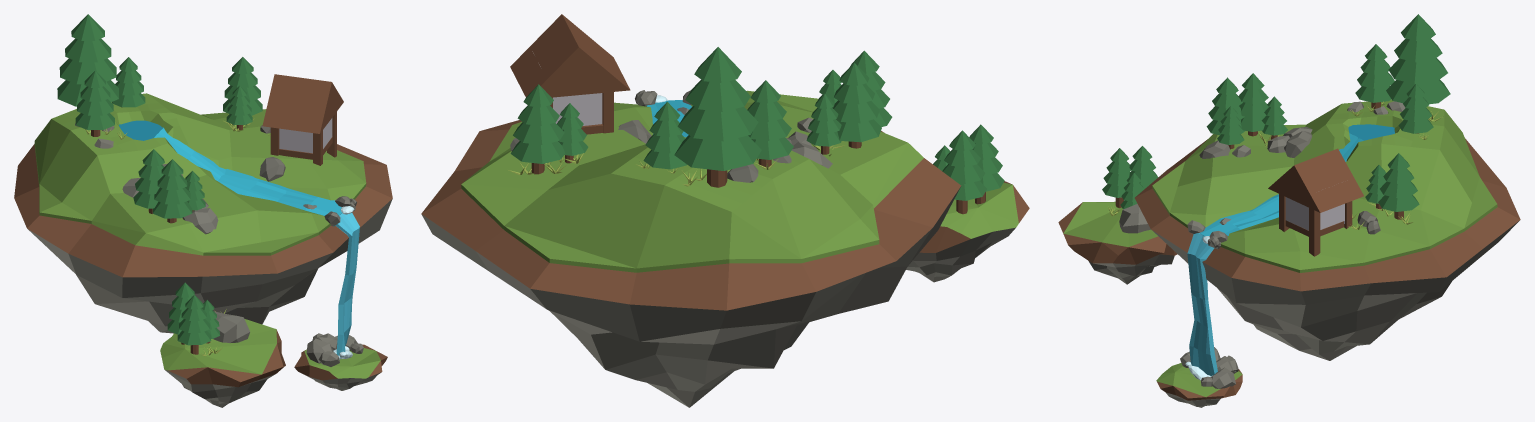
The model's file is Island_Green.glb.
The picture shows the model from 3 angles, left to right: view 1: azimuth 30°, elevation 25°; view 2: azimuth 150°, elevation 25°; view 3: azimuth 270°, elevation 25°; orthographic projection. The views are drawn at different scales.
Visible parts, largest first — view 1: Cone, Cone.051, Cube.031, Plane.001, Cone.050, Plane.002, Cone.003, Cone.002, Cube.014, Cone.004, Cube.029, Plane (+14 smaller); view 2: Cone, Cube.031, Cone.051, Cone.004, Cone.003, Cone.002, Cube.030, Cone.001, Cone.012, Cone.011, Cone.068, Cone.069 (+8 smaller); view 3: Cone, Cone.051, Cube.031, Plane.002, Cone.050, Plane.001, Cone.003, Cone.004, Cone.002, Cube.014, Cube.027, Plane (+8 smaller).
Part boxes in pixels (left/top/right/bottom): Cone: left=14, top=93, right=392, bottom=333; Cone.051: left=160, top=319, right=285, bottom=407; Cube.031: left=262, top=74, right=343, bottom=133; Plane.001: left=154, top=127, right=342, bottom=226; Cone.050: left=294, top=344, right=387, bottom=390; Plane.002: left=335, top=213, right=359, bottom=357; Cone.003: left=59, top=58, right=116, bottom=84; Cone.002: left=65, top=38, right=111, bottom=62; Cube.014: left=213, top=311, right=249, bottom=342; Cone.004: left=57, top=80, right=118, bottom=106; Cube.029: left=279, top=128, right=312, bottom=153; Plane: left=119, top=120, right=162, bottom=140; Cone: left=421, top=90, right=961, bottom=407; Cube.031: left=510, top=14, right=630, bottom=97; Cone.051: left=906, top=181, right=1029, bottom=282; Cone.004: left=674, top=135, right=761, bottom=170; Cone.003: left=677, top=106, right=758, bottom=141; Cone.002: left=685, top=79, right=750, bottom=111; Cube.030: left=553, top=93, right=600, bottom=125; Cone.001: left=694, top=47, right=741, bottom=82; Cone.012: left=510, top=141, right=564, bottom=163; Cone.011: left=513, top=122, right=564, bottom=144; Cone.068: left=832, top=100, right=879, bottom=123; Cone.069: left=836, top=119, right=881, bottom=142; Cone: left=1134, top=99, right=1520, bottom=360; Cone.051: left=1058, top=201, right=1177, bottom=284; Cube.031: left=1268, top=148, right=1363, bottom=212; Plane.002: left=1187, top=233, right=1217, bottom=375; Cone.050: left=1156, top=363, right=1242, bottom=407; Plane.001: left=1200, top=133, right=1363, bottom=236; Cone.003: left=1388, top=58, right=1447, bottom=83; Cone.004: left=1386, top=79, right=1450, bottom=104; Cone.002: left=1394, top=38, right=1442, bottom=62; Cube.014: left=1119, top=204, right=1150, bottom=233; Cube.027: left=1285, top=197, right=1308, bottom=230; Plane: left=1348, top=124, right=1394, bottom=140.
Bounding box in the file's own units: 2.52 × 2.37 × 3.05.
